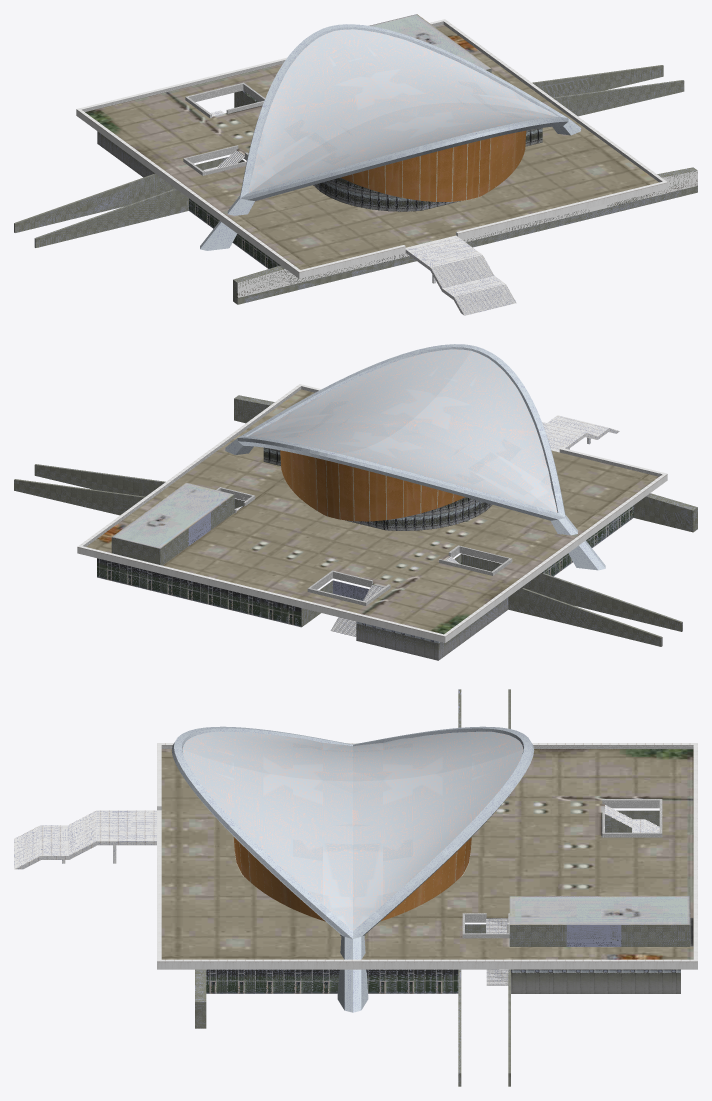
Rendered from HKW_21_GE.fbx.
3 views of the same model, one above another, from view 1: azimuth 30°, elevation 25°; view 2: azimuth 150°, elevation 25°; view 3: azimuth 270°, elevation 25° (orthographic). The views are drawn at different scales.
Visible parts, largest first — view 1: Group3, Dach_Flaeche2, Group4, Dach_Flaeche6, Group17, Halle_Sued_West1, Dach_Flaeche4, Group22, Group19, Group11, Dach_Flaeche, Dach_Rundbogen2 (+11 smaller); view 2: Group3, Dach_Flaeche4, Group4, Dach_Flaeche, Group17, Halle_Sued_West2, Dach_Flaeche2, Group19, Group14, Group29, Group11, Dach_Flaeche6 (+14 smaller); view 3: Group3, Dach_Flaeche, Dach_Flaeche6, Group4, Dach_Flaeche4, Dach_Flaeche2, Group21, Group29, Group22, Group15, Group30, Dach_Rundbogen (+11 smaller).
Part boxes in pixels (<box>): Group3: <box>85,24,658,269</box>; Dach_Flaeche2: <box>248,31,403,192</box>; Group4: <box>76,19,667,278</box>; Dach_Flaeche6: <box>334,29,558,116</box>; Group17: <box>14,157,244,247</box>; Halle_Sued_West1: <box>340,138,490,201</box>; Dach_Flaeche4: <box>250,108,467,192</box>; Group22: <box>405,237,516,315</box>; Group19: <box>532,65,684,116</box>; Group11: <box>233,91,697,304</box>; Dach_Flaeche: <box>405,102,556,133</box>; Dach_Rundbogen2: <box>240,132,478,200</box>; Group3: <box>86,389,658,634</box>; Dach_Flaeche4: <box>402,351,557,512</box>; Group4: <box>77,384,667,642</box>; Dach_Flaeche: <box>248,349,471,436</box>; Group17: <box>454,554,682,646</box>; Halle_Sued_West2: <box>315,458,464,521</box>; Dach_Flaeche2: <box>338,428,555,512</box>; Group19: <box>14,464,244,515</box>; Group14: <box>97,558,301,627</box>; Group29: <box>112,483,234,548</box>; Group11: <box>234,395,697,626</box>; Dach_Flaeche6: <box>250,422,401,453</box>; Group3: <box>161,749,693,959</box>; Dach_Flaeche: <box>182,750,352,930</box>; Dach_Flaeche6: <box>353,750,523,930</box>; Group4: <box>157,743,697,969</box>; Dach_Flaeche4: <box>182,731,352,781</box>; Dach_Flaeche2: <box>353,731,523,781</box>; Group21: <box>206,969,458,993</box>; Group29: <box>509,896,690,924</box>; Group22: <box>14,810,156,869</box>; Group15: <box>511,969,680,993</box>; Group30: <box>509,925,690,946</box>; Dach_Rundbogen: <box>171,747,352,938</box>.
Size of the model in its own units: 162 by 29.12 by 122.
